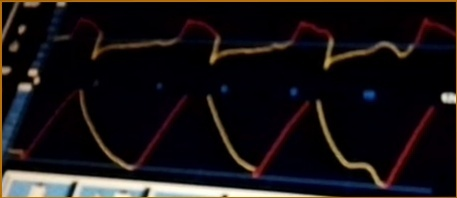Ineffective_effort Flow: (53, 7, 456, 72)
Ineffective_effort Volume: (9, 88, 433, 187)
